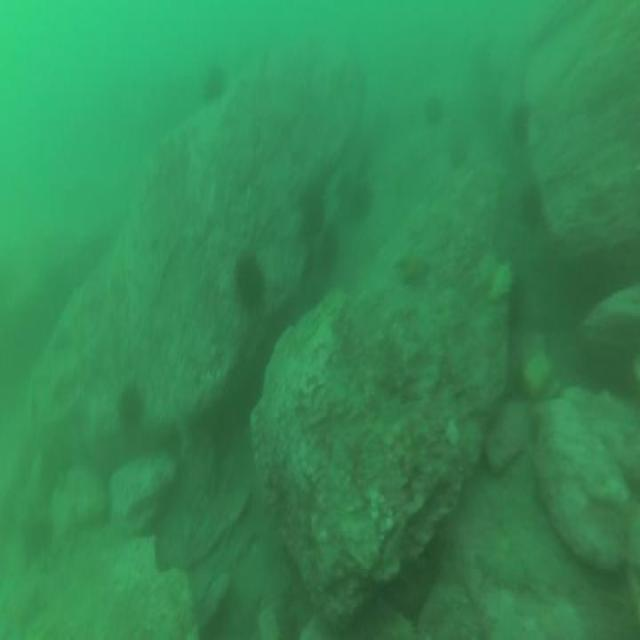echinus: (230, 248, 268, 315), (114, 379, 146, 436), (198, 57, 232, 109), (346, 172, 377, 229), (517, 179, 545, 232), (298, 183, 325, 237), (508, 100, 536, 150), (446, 131, 469, 172), (422, 92, 446, 131)
starfish: (394, 245, 434, 291)
